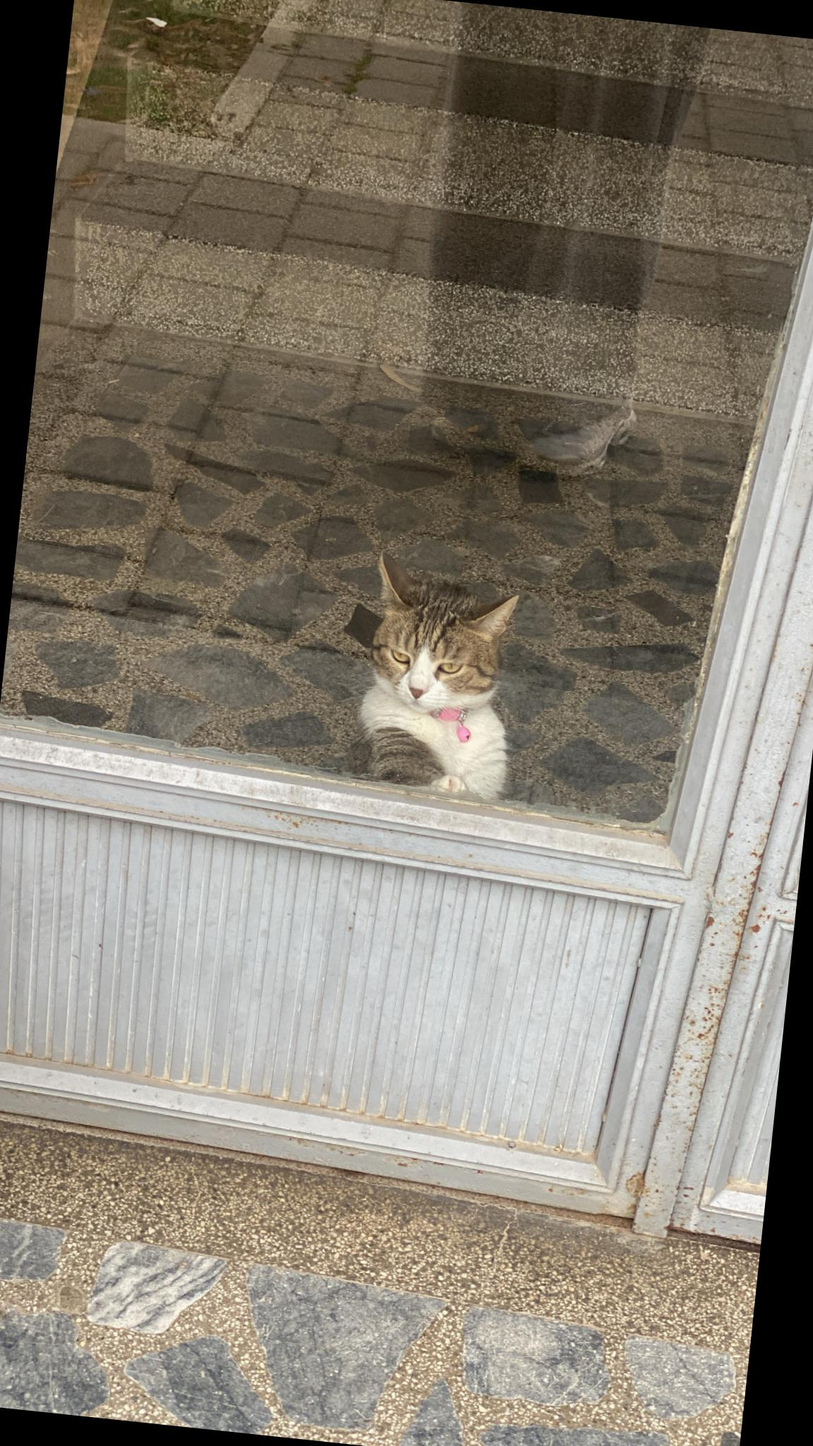macka: (353, 551, 526, 796)
